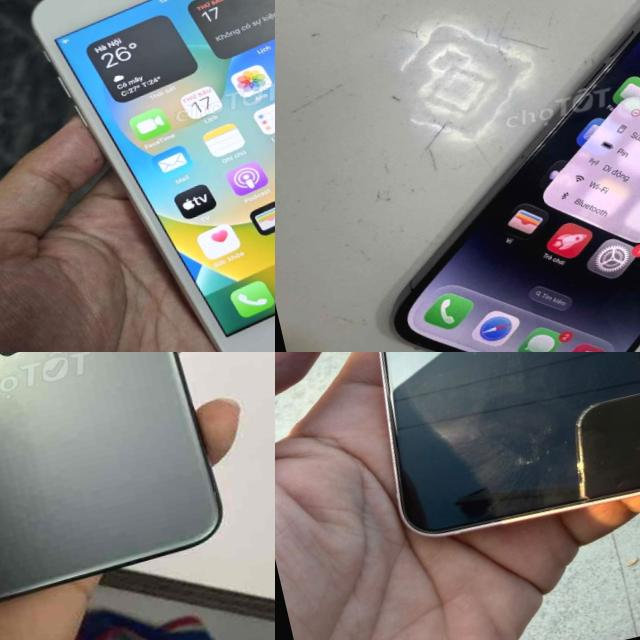gen_11: (0, 352, 220, 600)
gen_12_13: (314, 352, 640, 560)
gen_14: (318, 0, 640, 352)
gen_7_8: (22, 0, 275, 352)
